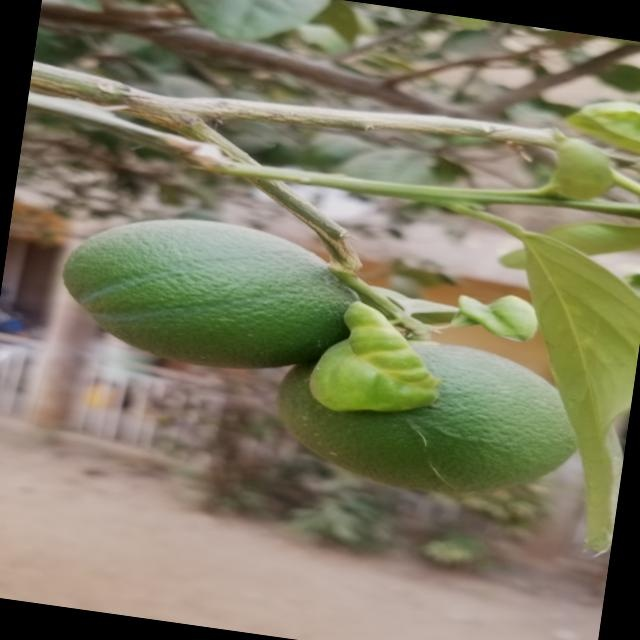agrume: (32, 193, 377, 395), (275, 317, 595, 519)
